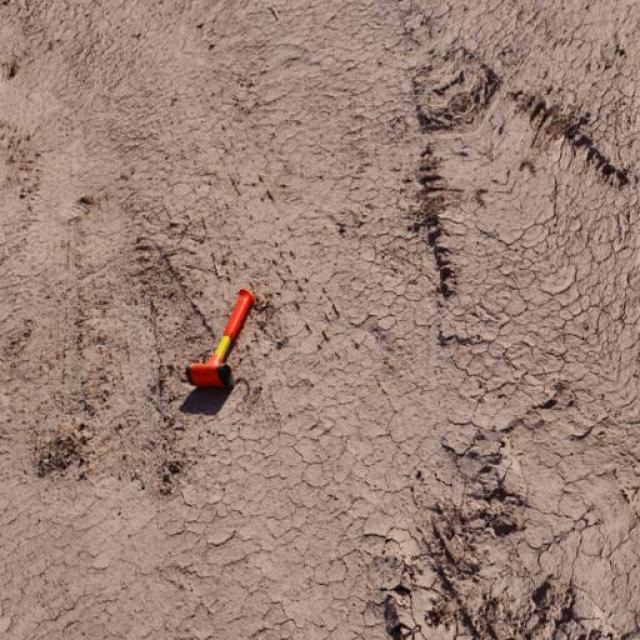mallet: (184, 286, 255, 389)
